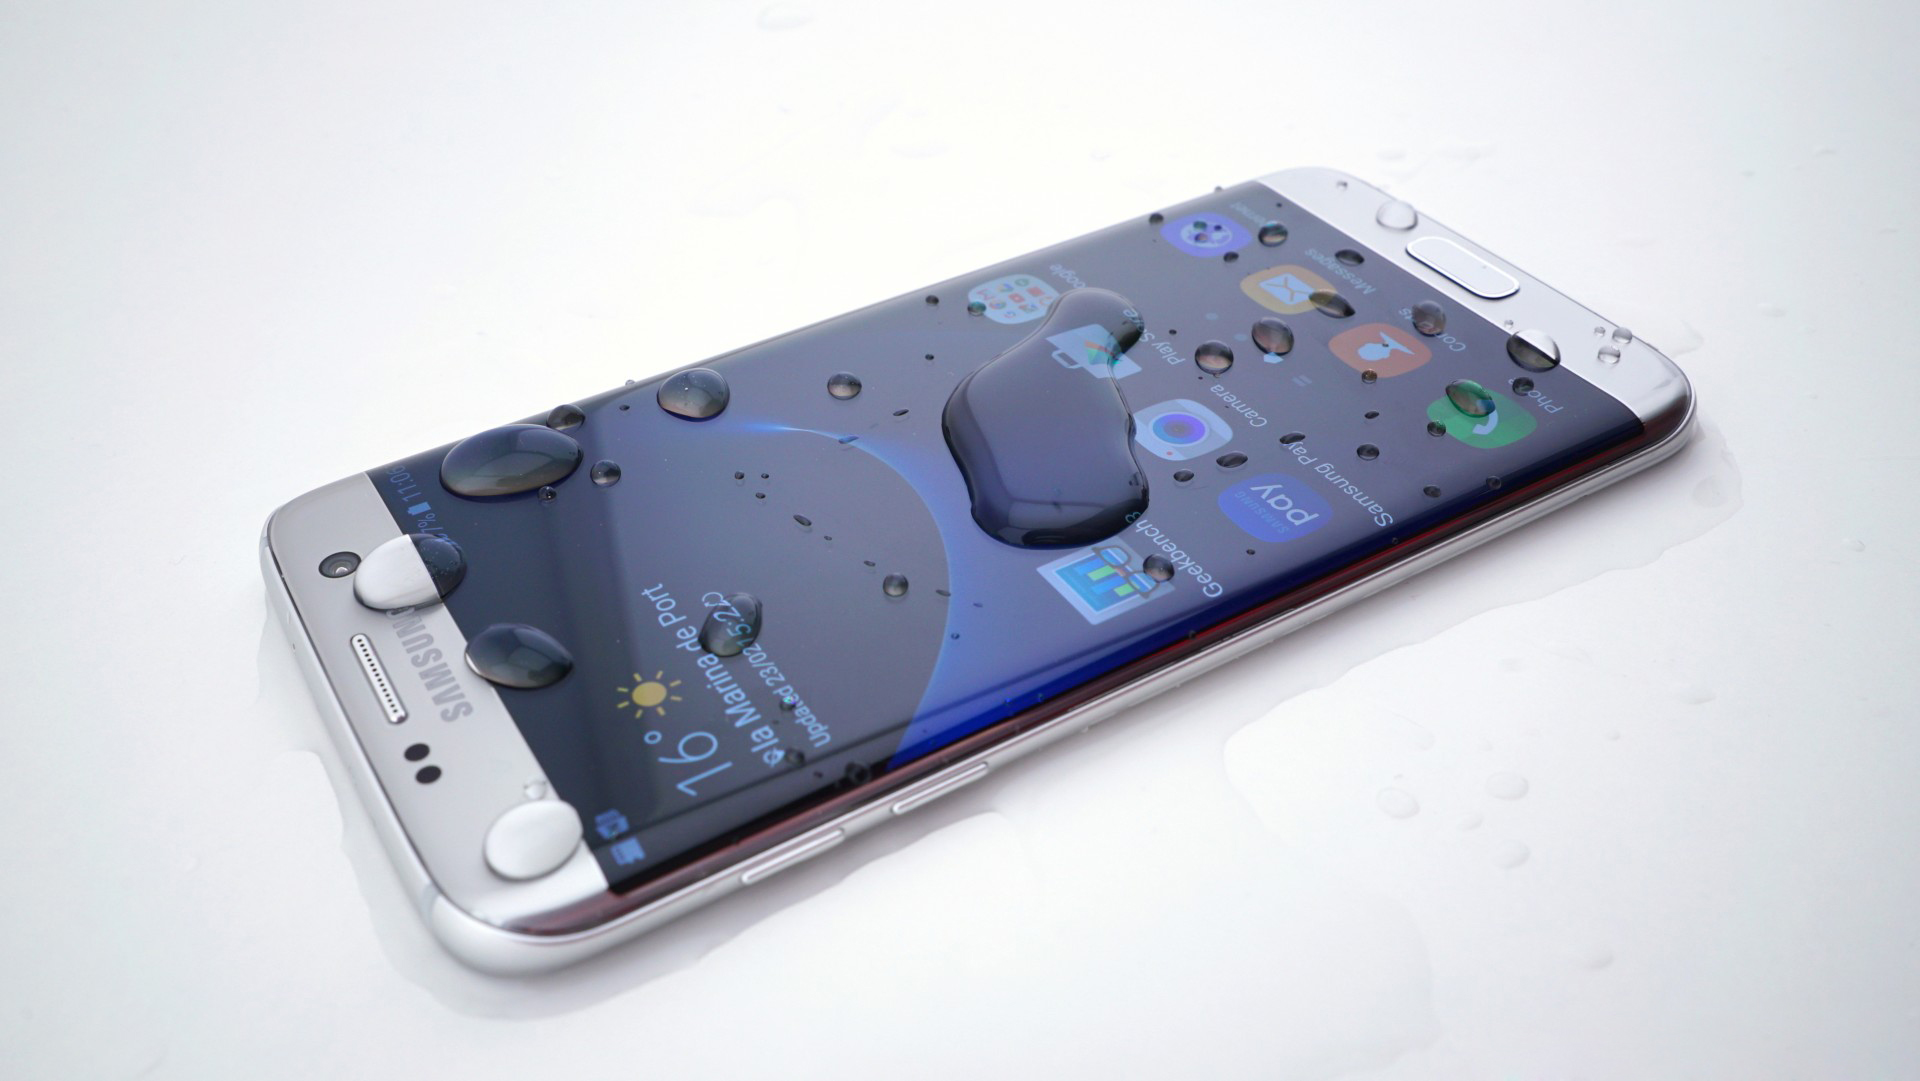smartphone: (257, 163, 1697, 983)
